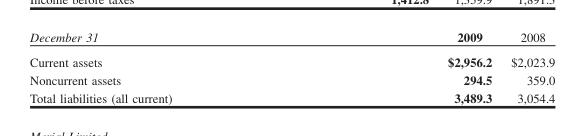table: (29, 29, 554, 104)
table column: (29, 29, 309, 104), (309, 29, 500, 104), (500, 29, 554, 104)
table column header: (29, 29, 554, 49)
table row: (29, 49, 554, 70), (29, 29, 554, 49), (29, 70, 554, 88), (29, 88, 554, 104)
